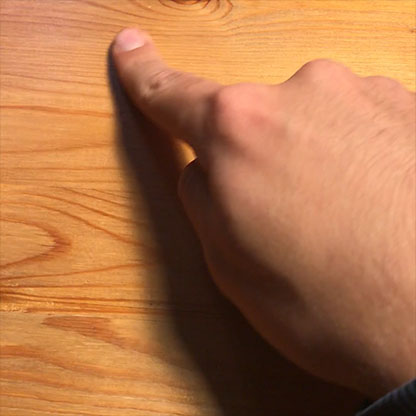fingertip: (104, 21, 158, 62)
